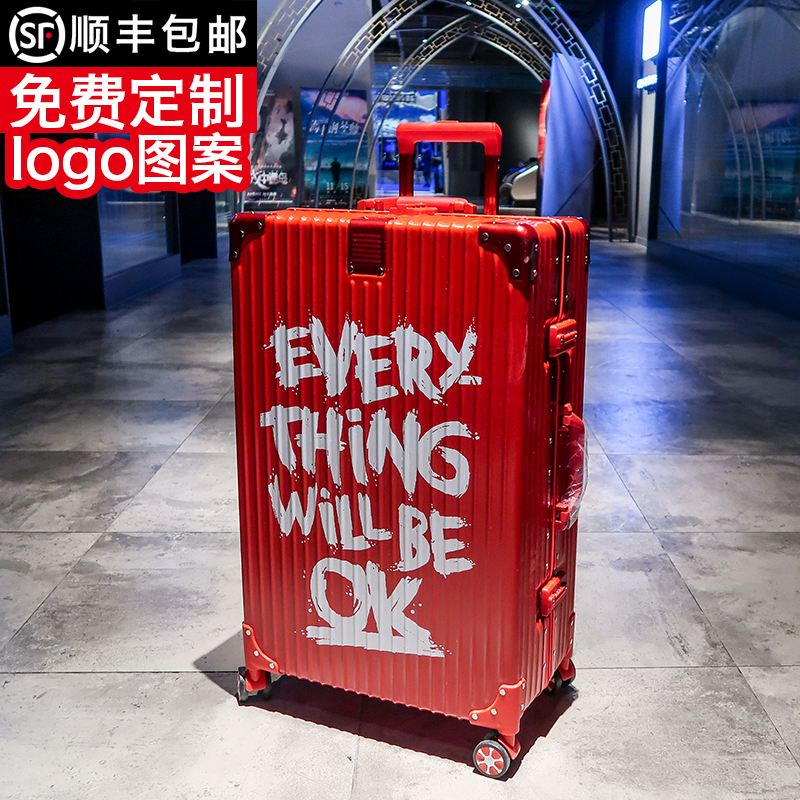box: (229, 208, 590, 729)
handle: (553, 399, 587, 528)
lock: (541, 569, 569, 616), (549, 318, 578, 359)
wheel: (471, 731, 517, 779), (236, 665, 274, 706)
